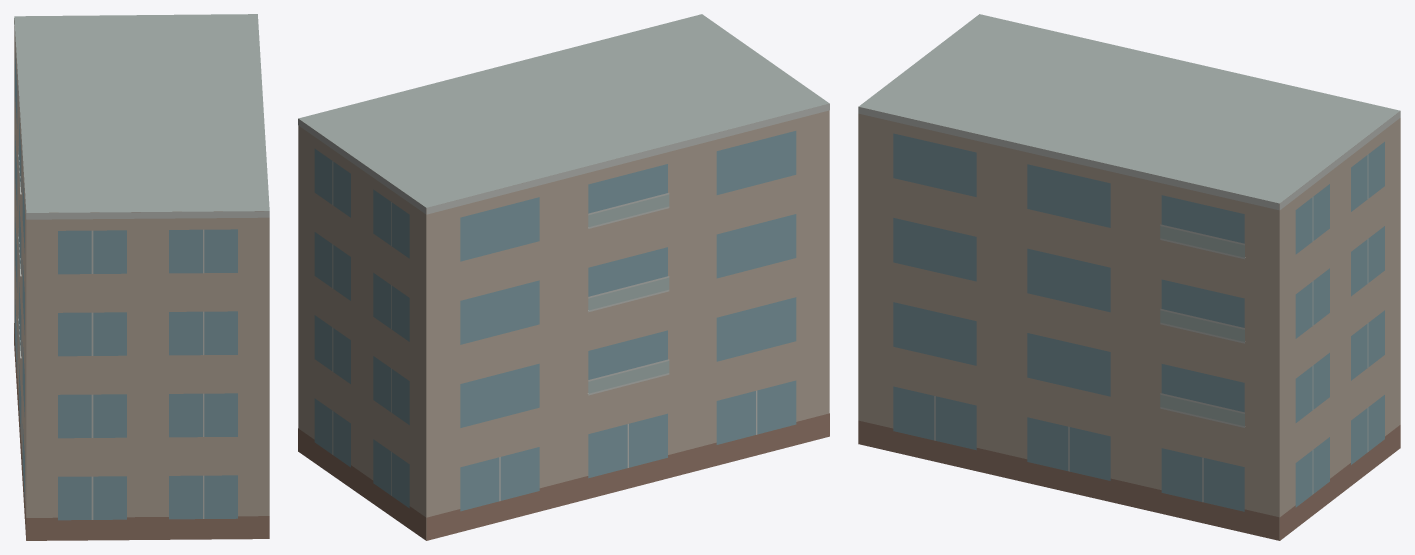
File: survey-upis-32543167.glb
3 views of the same model, side by side, from view 1: azimuth 30°, elevation 25°; view 2: azimuth 150°, elevation 25°; view 3: azimuth 270°, elevation 25° (orthographic). The views are drawn at different scales.
Visible parts, largest first — view 1: survey-upis-32543167.tmp; view 2: survey-upis-32543167.tmp; view 3: survey-upis-32543167.tmp.
Part boxes in pixels (x1,y1,x2,y2): survey-upis-32543167.tmp: (14,14,269,540); survey-upis-32543167.tmp: (298,14,829,540); survey-upis-32543167.tmp: (858,14,1400,540).
Size of the model in its own units: 14.35 by 11.9 by 17.34.
